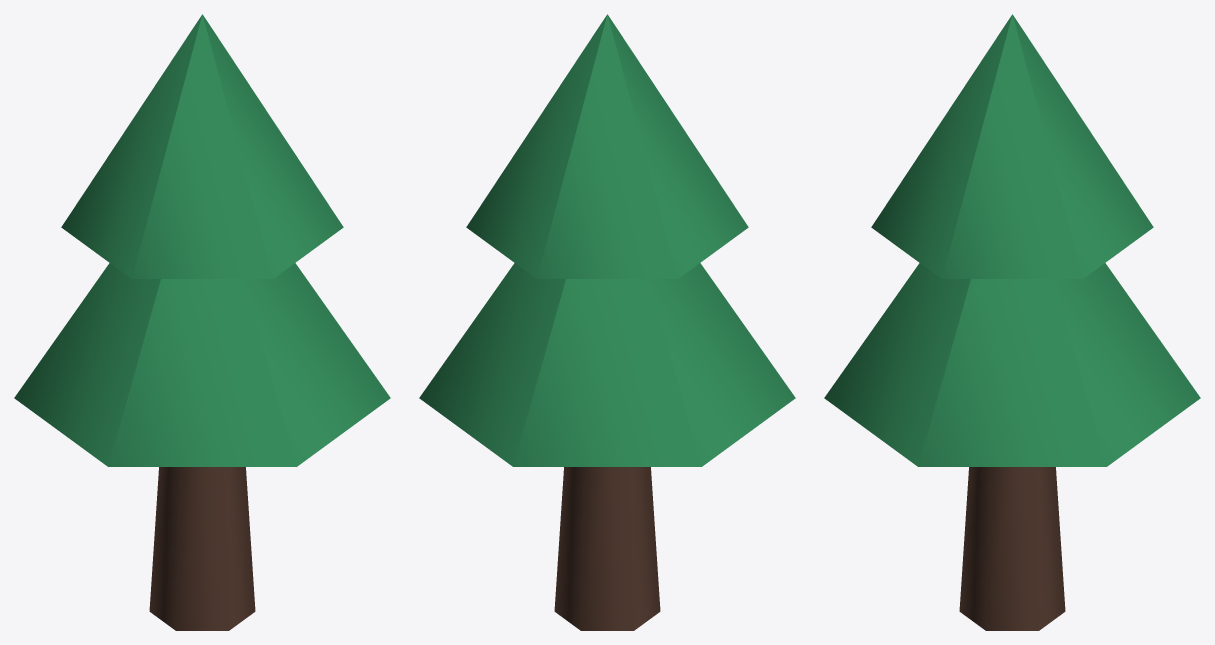
File: tree.glb
3 views of the same model, side by side, from view 1: azimuth 30°, elevation 25°; view 2: azimuth 150°, elevation 25°; view 3: azimuth 270°, elevation 25° (orthographic).
Visible parts, largest first — view 1: leaves_lower, leaves_upper, trunk; view 2: leaves_lower, leaves_upper, trunk; view 3: leaves_lower, leaves_upper, trunk.
Boxes of the visible parts, x1,y1,x2,y2 form: leaves_lower: [14, 263, 390, 466]; leaves_upper: [61, 14, 343, 278]; trunk: [149, 467, 255, 630]; leaves_lower: [419, 263, 795, 466]; leaves_upper: [466, 14, 748, 278]; trunk: [554, 467, 660, 630]; leaves_lower: [824, 263, 1200, 466]; leaves_upper: [871, 14, 1153, 278]; trunk: [959, 467, 1065, 630].
Bounding box in the file's own units: 0.5543 × 1.12 × 0.64.
